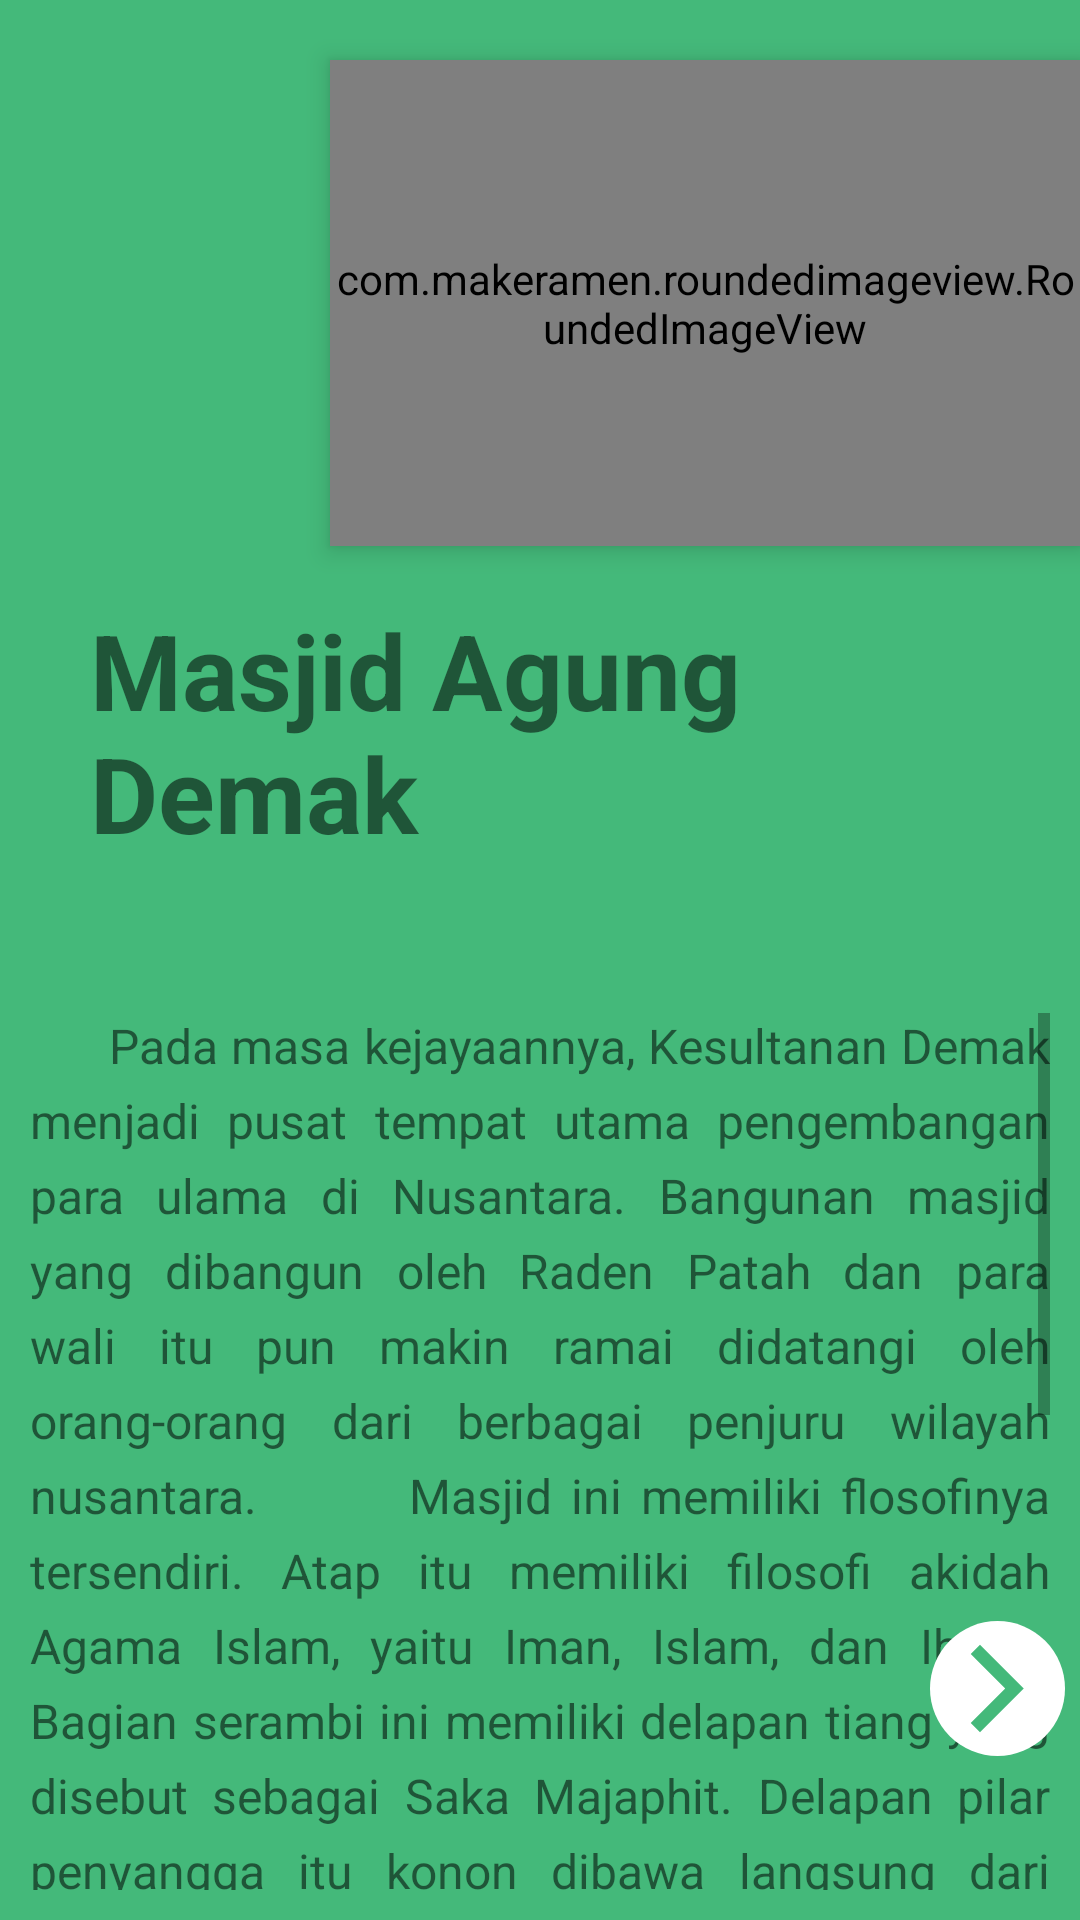

Point at icon controls on the screen. Image size 1080px x 1920px, points as [x,y].
arrow forwad: [997,1688]
